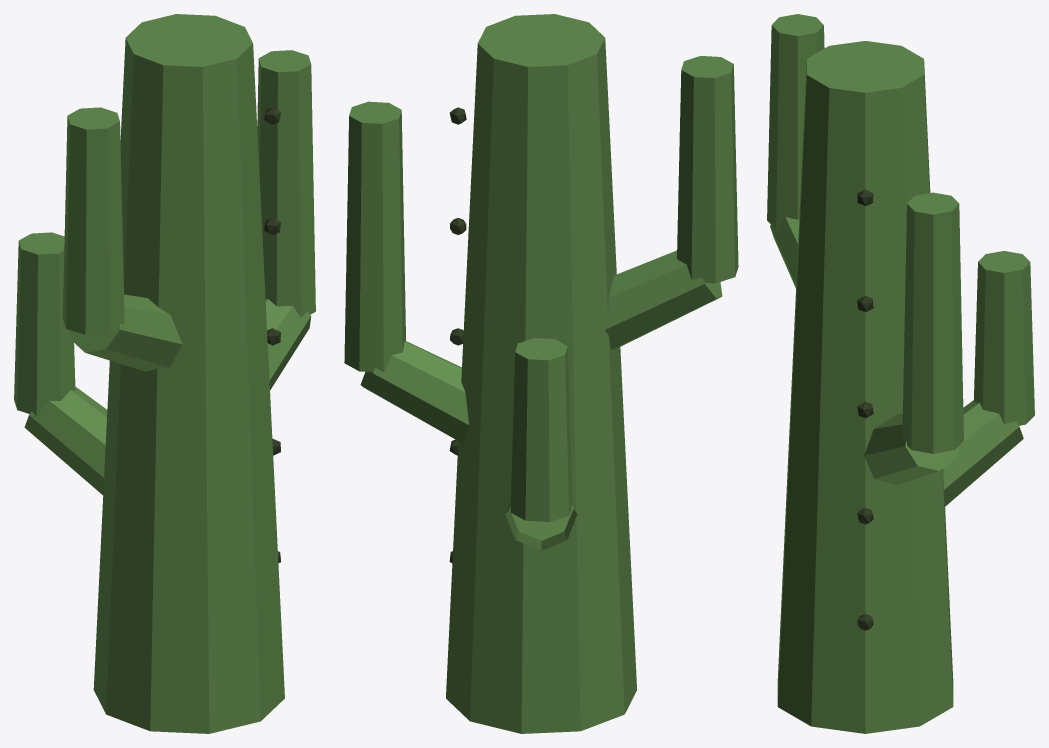
The model's file is desert_saguaro_v31.glb.
The picture shows the model from 3 angles, left to right: view 1: azimuth 30°, elevation 25°; view 2: azimuth 150°, elevation 25°; view 3: azimuth 270°, elevation 25°; orthographic projection. The views are drawn at different scales.
Parts seen in each view (by area): view 1: desert_saguaro; view 2: desert_saguaro; view 3: desert_saguaro.
Part boxes in pixels (x1,y1,x2,y2): desert_saguaro: [14, 14, 315, 733]; desert_saguaro: [344, 14, 738, 733]; desert_saguaro: [767, 14, 1034, 733].
Size of the model in its own units: 1.14 by 2.25 by 0.8701.
